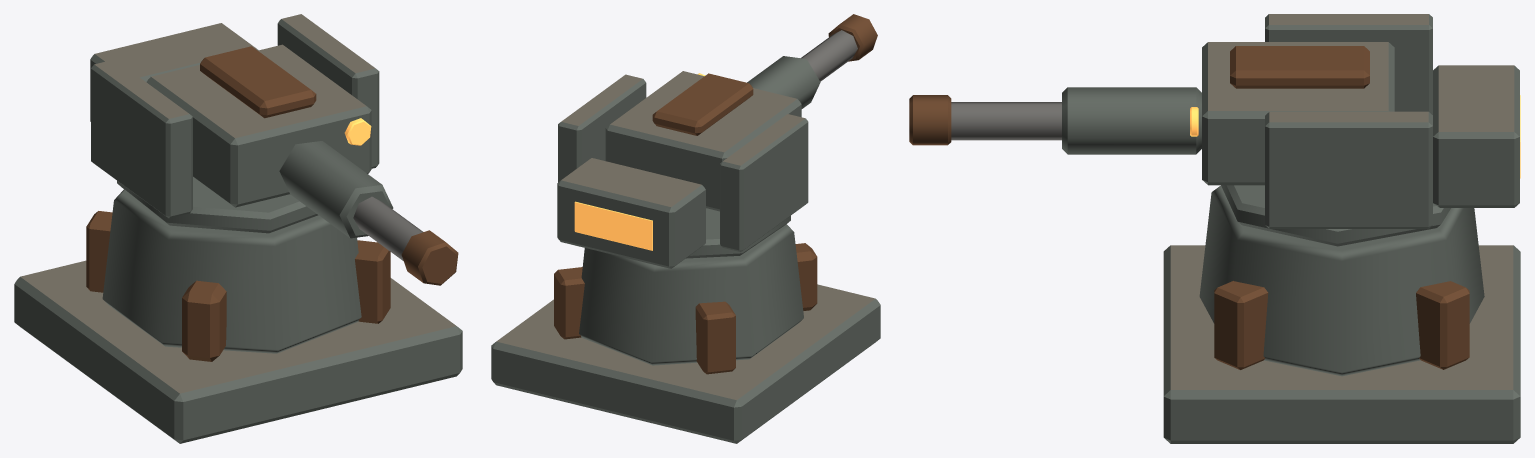
File: R4W_Basic_LOD1.fbx
The picture shows the model from 3 angles, left to right: view 1: azimuth 30°, elevation 25°; view 2: azimuth 150°, elevation 25°; view 3: azimuth 270°, elevation 25°; orthographic projection. The views are drawn at different scales.
Parts seen in each view (by area): view 1: R4W_Basic_LOD1; view 2: R4W_Basic_LOD1; view 3: R4W_Basic_LOD1.
Boxes of the visible parts, box(x1,y1,x2,y2) form: R4W_Basic_LOD1: box(14, 14, 462, 443); R4W_Basic_LOD1: box(491, 14, 880, 443); R4W_Basic_LOD1: box(909, 14, 1520, 443).
Size of the model in its own units: 0.51 by 0.494 by 0.873.
